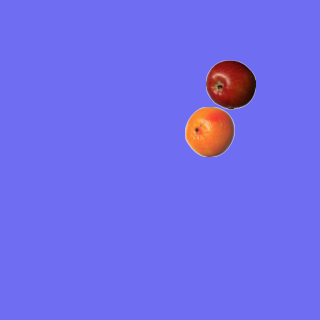Apple Braeburn: (205, 59, 255, 109)
Grapefruit Pink: (184, 106, 234, 156)
